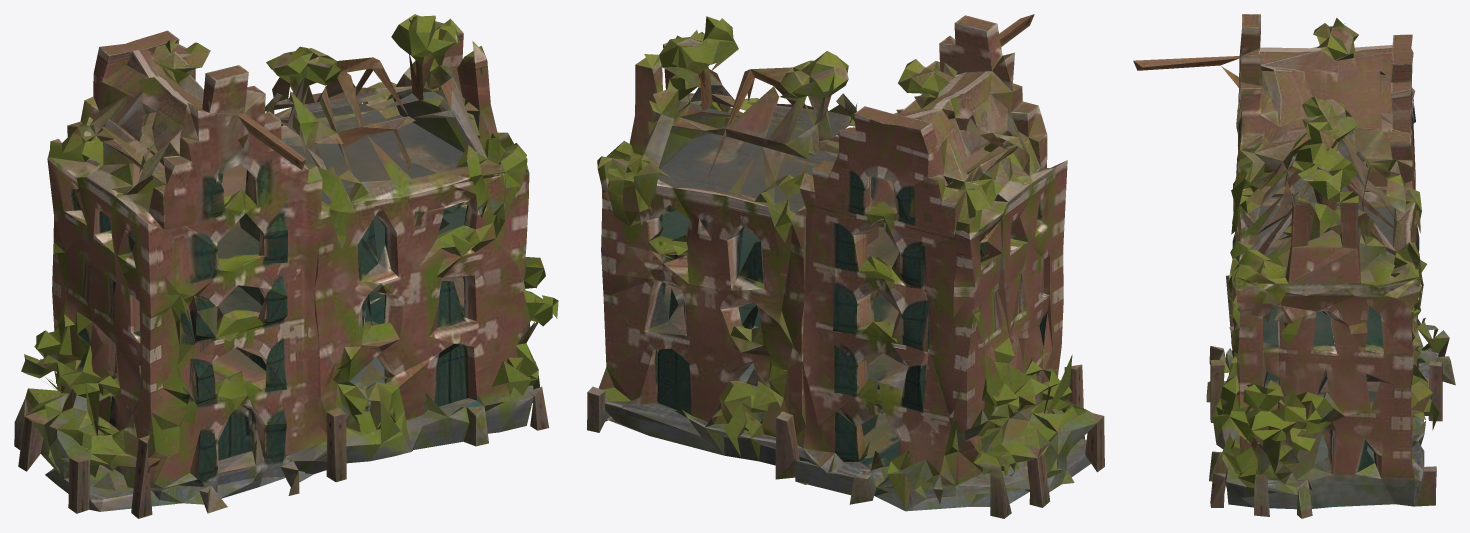
File: cityWarehouse.glb
The picture shows the model from 3 angles, left to right: view 1: azimuth 30°, elevation 25°; view 2: azimuth 150°, elevation 25°; view 3: azimuth 270°, elevation 25°; orthographic projection. The views are drawn at different scales.
Size of the model in its own units: 1.89 by 1.57 by 1.27.
Materials: 1 (1 with a texture image).
